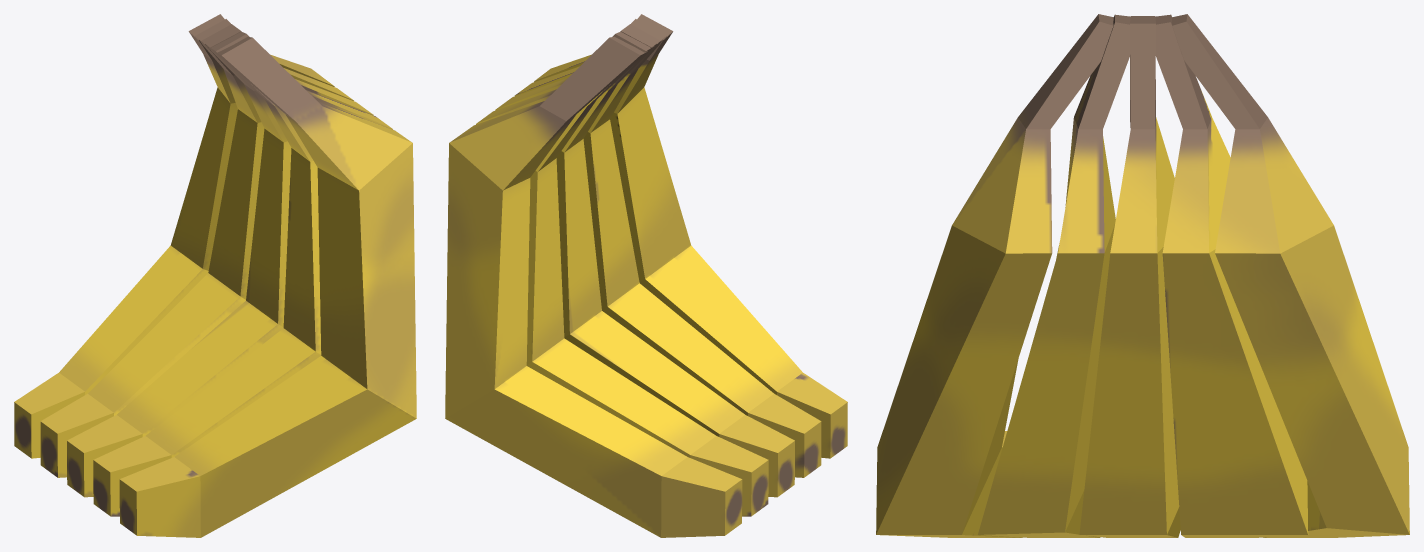
Rendered from bananas.fbx.
3 views of the same model, side by side, from view 1: azimuth 30°, elevation 25°; view 2: azimuth 150°, elevation 25°; view 3: azimuth 270°, elevation 25° (orthographic). The views are drawn at different scales.
Parts seen in each view (by area): view 1: Plane; view 2: Plane; view 3: Plane.
Part boxes in pixels (x1,y1,x2,y2): Plane: [14, 14, 416, 537]; Plane: [445, 14, 847, 537]; Plane: [876, 14, 1409, 537].
Bounding box in the file's own units: 117 × 169 × 140.
